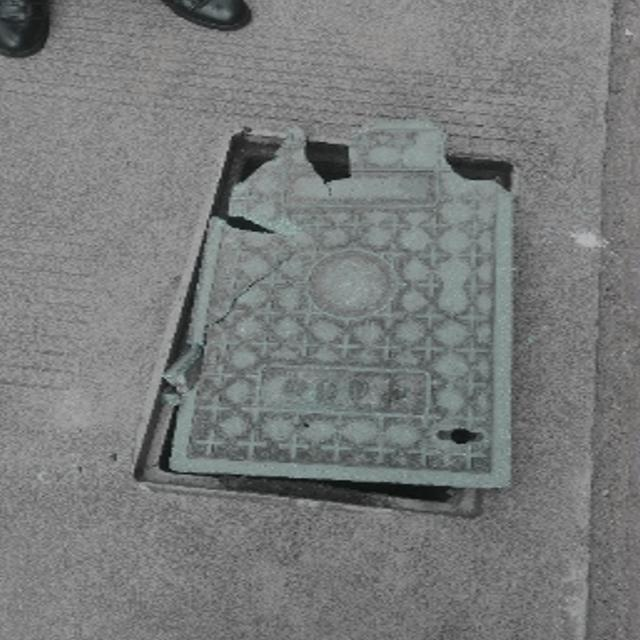broke: (134, 119, 515, 527)
